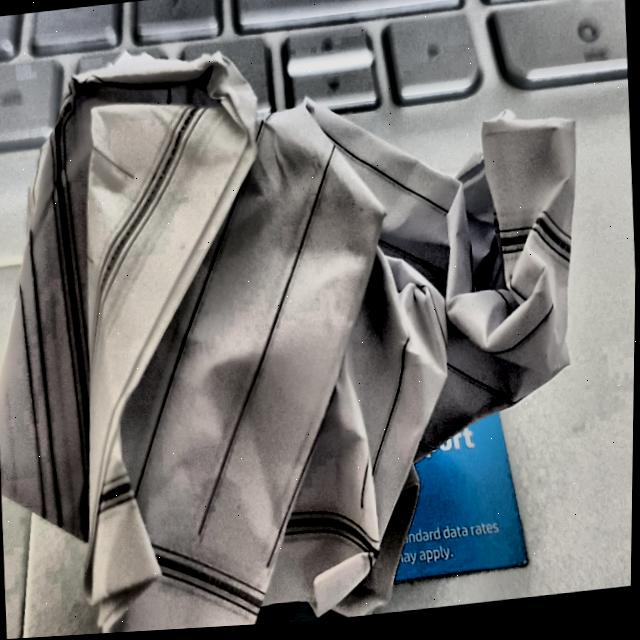paper: (0, 0, 613, 640)
